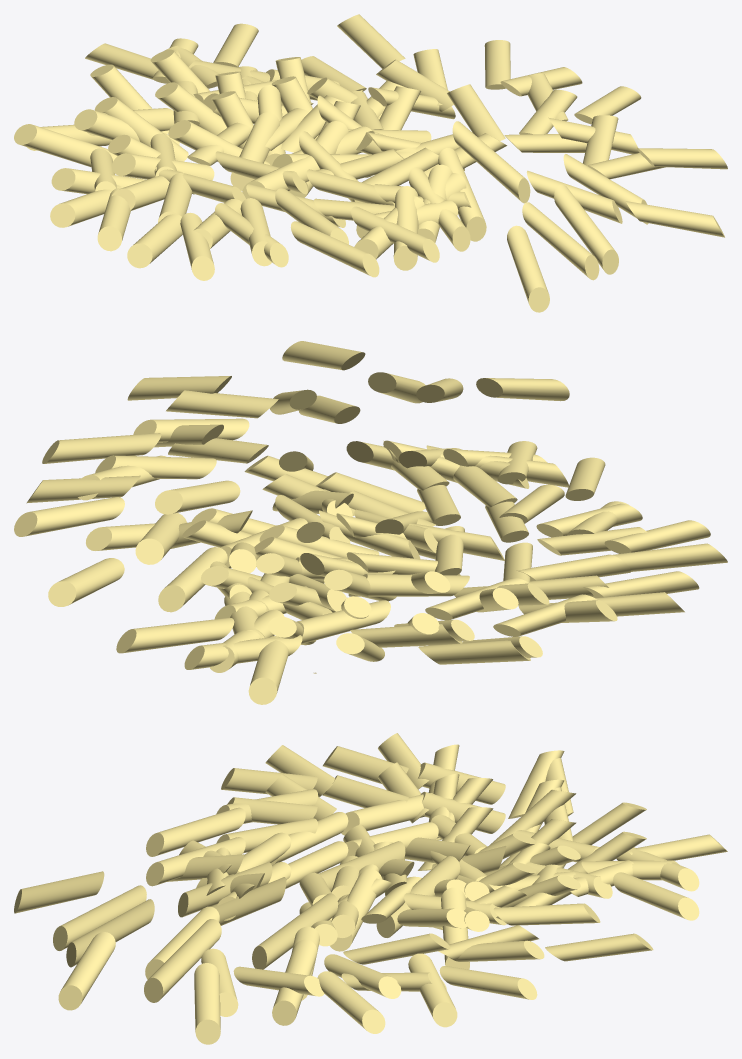
The model's file is pizza.fbx.
3 renders of one model, top to bottom at view 1: azimuth 30°, elevation 25°; view 2: azimuth 150°, elevation 25°; view 3: azimuth 270°, elevation 25°, orthographic. The views are drawn at different scales.
Parts seen in each view (by area): view 1: pCylinder101; view 2: pCylinder101; view 3: pCylinder101.
Boxes of the visible parts, bbox=[...] form: pCylinder101: bbox=[14, 14, 727, 312]; pCylinder101: bbox=[14, 341, 727, 704]; pCylinder101: bbox=[14, 733, 727, 1044].
Size of the model in its own units: 1231549 by 123604 by 1315328.
